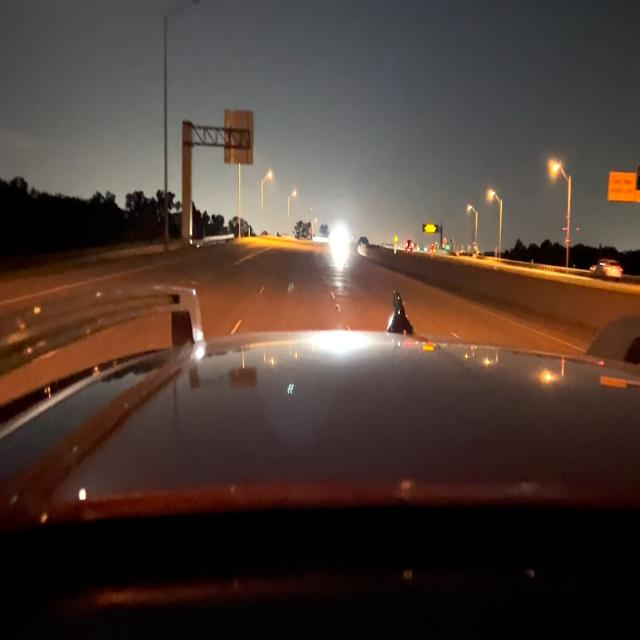back-of-sign: (226, 110, 255, 163)
